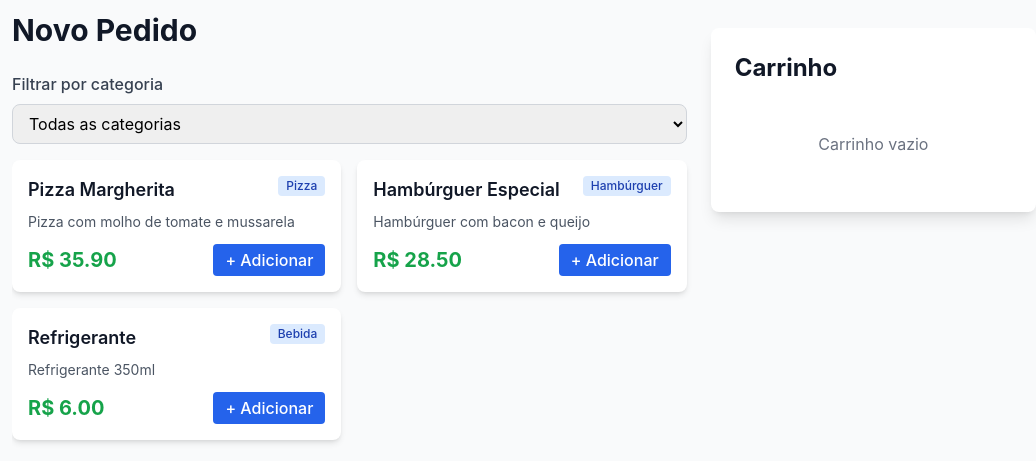
Scenario: CriarPedidoPage › should increase item quantity in cart
The image size is (1036, 461).
Expected: the heading "Pizza Margherita" is shown, [28,176,175,204]
Click the button "+ Adicionar" next to "35.90": click(269, 260) [213,244,325,276]
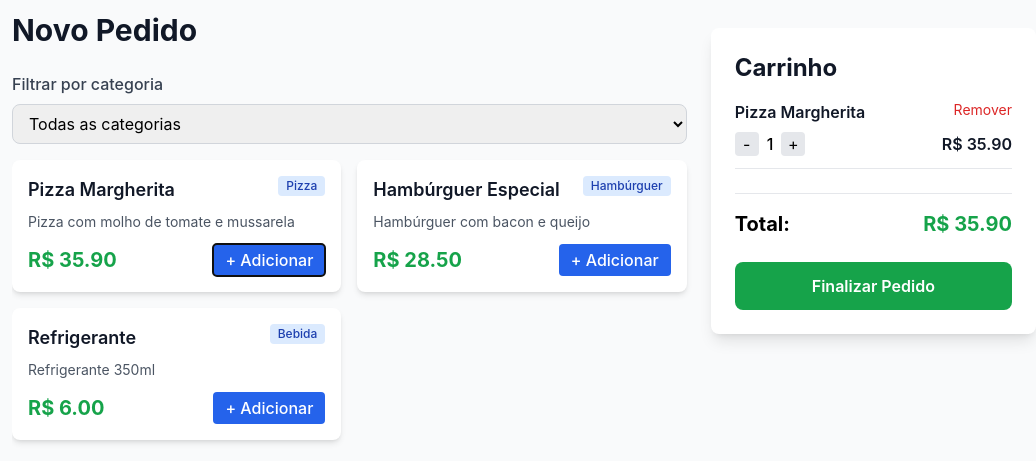
Now the button "+" is shown
Click the button "+": click(793, 144) [781,132,805,156]
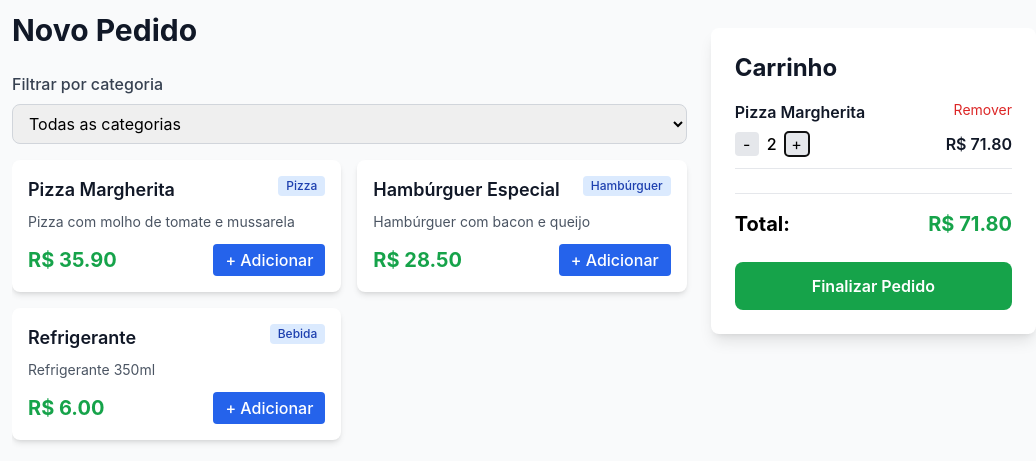
Now the text "2" is shown, box [767,132,777,156]
